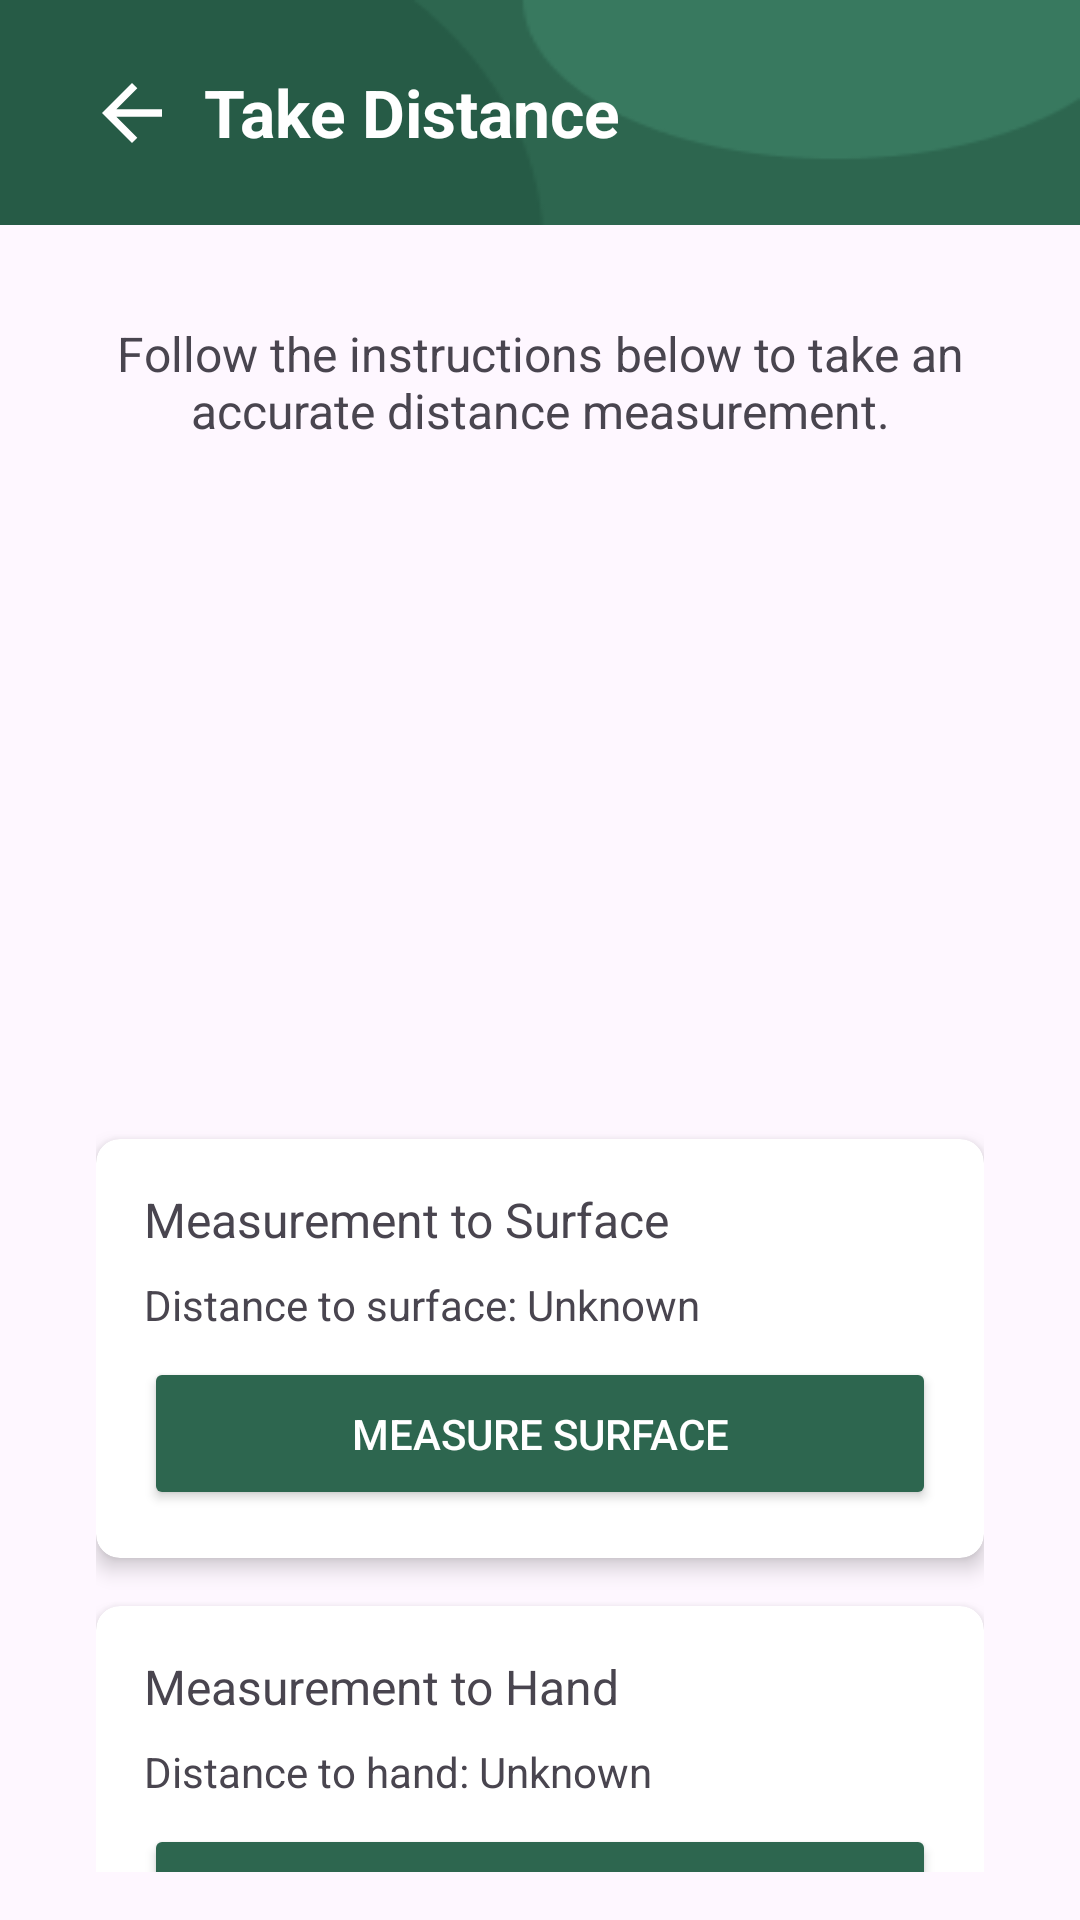

Locate icon controls on the screen. Image size 1080px×1920px, boxes as (x1, y1, x2, y2).
Back: (102, 83, 162, 143)
